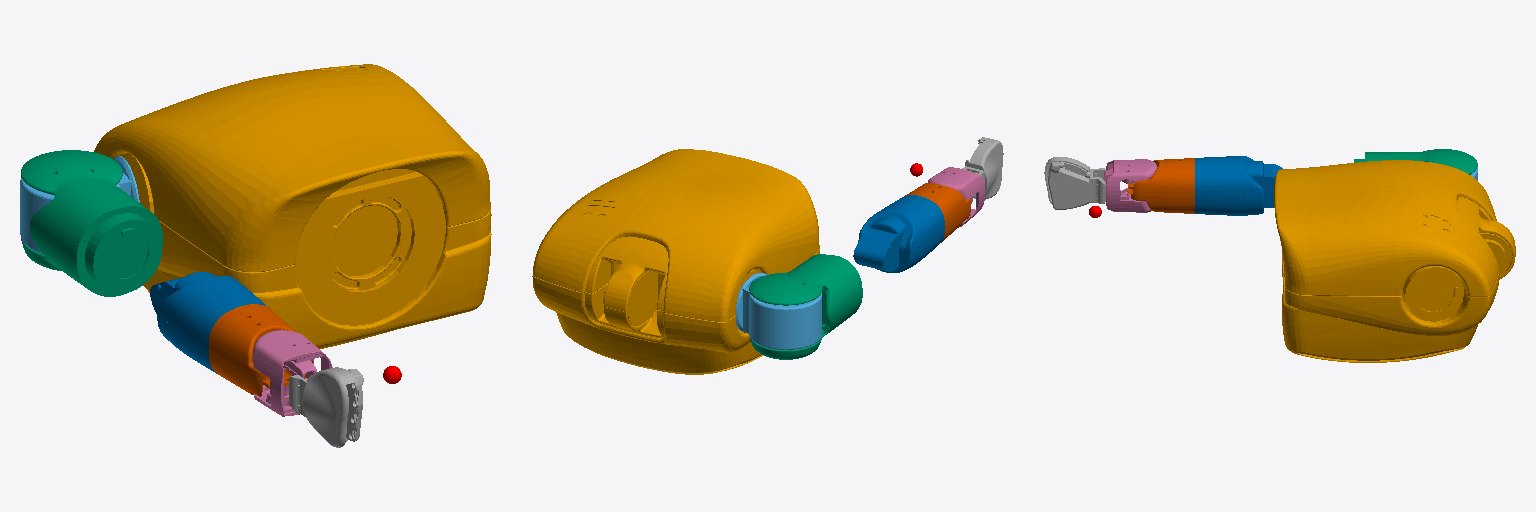
The robot description file, URDF, robot "friday":
<robot name="friday">
  <link name="waist_5">
    <inertial>
      <origin xyz="1.35732334303223E-05 0.135898614953202 -0.0188496042510568" rpy="0 0 0" />
      <mass value="12.474122580364" />
      <inertia ixx="0.109178941754524" ixy="-2.98129835492946E-05" ixz="-3.19150484404308E-06" iyy="0.107169406583023" iyz="-0.00214461668880564" izz="0.157827782829379" />
    </inertial>
    <visual>
      <origin xyz="0 0 0" rpy="0 0 0" />
      <geometry>
        <mesh filename="../meshes/friday/visual/body.obj" />
      </geometry>
    </visual>
    <visual>
      <origin xyz="0 -0.006322245945349 0" rpy="0 0 0" />
      <geometry>
        <mesh filename="../meshes/friday/visual/body_backpack.obj" />
      </geometry>
    </visual>
    <visual>
      <origin xyz="0 0.194843979673063 0" rpy="0 0 0" />
      <geometry>
        <mesh filename="../meshes/friday/visual/body_logo.obj" />
      </geometry>
    </visual>
    <collision>
      <origin xyz="0 0 0" rpy="0 0 0" />
      <geometry>
        <mesh filename="../meshes/friday/collision/compact_waist_5.obj" />
      </geometry>
    </collision>
  </link>
  <link name="right_arm_1">
    <inertial>
      <origin xyz="-0.0504783902306926 0.00890129178533927 -0.00679453644214538" rpy="0 0 0" />
      <mass value="0.651474546540579" />
      <inertia ixx="0.000731842888672747" ixy="3.59742635586591E-05" ixz="-3.81367597786363E-05" iyy="0.000929468035003683" iyz="6.73422556956025E-06" izz="0.000892686460138007" />
    </inertial>
    <visual>
      <origin xyz="0 0 0" rpy="0 0 0" />
      <geometry>
        <mesh filename="../meshes/friday/visual/right_arm_1.obj" />
      </geometry>
    </visual>
  </link>
  <joint name="right_arm_1" type="revolute">
    <origin xyz="-0.172029404471144 0.231163071735731 0" rpy="0 0 0" />
    <parent link="waist_5" />
    <child link="right_arm_1" />
    <axis xyz="-0.984807753012208 0.173648177666932 0" />
    <limit effort="87.0" lower="-0.4236" upper="2.5180" velocity="2.0" />
  </joint>
  <link name="right_arm_2">
    <inertial>
      <origin xyz="-0.00876610551709145 -0.0838925972250821 -0.000116637744680237" rpy="0 0 0" />
      <mass value="0.552803787561506" />
      <inertia ixx="0.000519188555883051" ixy="-8.90912453909685E-06" ixz="1.5759114172996E-06" iyy="0.000459209519989159" iyz="8.14107358177029E-06" izz="0.000544537600281593" />
    </inertial>
    <visual>
      <origin xyz="0 0 0" rpy="0 0 0" />
      <geometry>
        <mesh filename="../meshes/friday/visual/right_arm_2.obj" />
      </geometry>
    </visual>
    <collision>
      <origin xyz="0 0 0" rpy="0 0 0" />
      <geometry>
        <mesh filename="../meshes/friday/collision/compact_right_arm_2.obj" />
      </geometry>
    </collision>
  </link>
  <joint name="right_arm_2" type="revolute">
    <origin xyz="-0.0590971787351876 0.0104204270947499 0" rpy="0 0 0" />
    <parent link="right_arm_1" />
    <child link="right_arm_2" />
    <axis xyz="0 0 -1" />
    <limit effort="87.0" lower="0.0" upper="2.2562" velocity="2.0" />
  </joint>
  <link name="right_arm_3">
    <inertial>
      <origin xyz="-0.000133731452946151 -0.0679041256616604 -0.0020044978911568" rpy="0 0 0" />
      <mass value="0.726149922961283" />
      <inertia ixx="0.00135809777973873" ixy="-5.89216930081264E-06" ixz="1.34889818650324E-06" iyy="0.000527337663742348" iyz="-3.44595442111269E-05" izz="0.00136476731130073" />
    </inertial>
    <visual>
      <origin xyz="0 0 0" rpy="0 0 0" />
      <geometry>
        <mesh filename="../meshes/friday/visual/right_arm_3.obj" />
      </geometry>
    </visual>
    <collision>
      <origin xyz="0 -0.1 0.0" rpy="0 0 0" />
      <geometry>
				<box size="0.065 0.08 0.06" />
			</geometry>
    </collision>
  </link>
  <joint name="right_arm_3" type="revolute">
    <origin xyz="-0.0100000000000191 -0.136500000000018 0" rpy="0 0 0" />
    <parent link="right_arm_2" />
    <child link="right_arm_3" />
    <axis xyz="0 -1 0" />
    <limit effort="87.0" lower="-1.4708" upper="1.4708" velocity="2.0" />
  </joint>
  <link name="right_arm_4">
    <inertial>
      <origin xyz="-2.76445533131664E-14 -0.045952576906095 -0.0136740346459322" rpy="0 0 0" />
      <mass value="0.467228469256572" />
      <inertia ixx="0.000771988372959408" ixy="1.94600978543822E-16" ixz="4.31013975029117E-12" iyy="0.000278940153191588" iyz="4.81484159713596E-06" izz="0.000775309371405241" />
    </inertial>
    <visual>
      <origin xyz="0 0 0" rpy="0 0 0" />
      <geometry>
        <mesh filename="../meshes/friday/visual/right_arm_4.obj" />
      </geometry>
    </visual>
    <collision>
      <origin xyz="0 0 0" rpy="0 0 0" />
      <geometry>
        <mesh filename="../meshes/friday/collision/compact_right_arm_4.obj" />
      </geometry>
    </collision>
  </link>
  <joint name="right_arm_4" type="revolute">
    <origin xyz="0 -0.13 0.0134999999984212" rpy="0 0 0" />
    <parent link="right_arm_3" />
    <child link="right_arm_4" />
    <axis xyz="-1 0 0" />
    <limit effort="87.0" lower="0.0" upper="2.1689" velocity="2.0" />
  </joint>
  <link name="right_arm_5">
    <inertial>
      <origin xyz="5.77929130494981E-05 -2.10908799249993E-05 0.0303745916076382" rpy="0 0 0" />
      <mass value="0.141645120498882" />
      <inertia ixx="0.000150674876586753" ixy="-9.98797795815426E-06" ixz="-9.93466915122478E-08" iyy="0.00015148916187729" iyz="8.09491309586898E-08" izz="7.93773197761316E-05" />
    </inertial>
    <visual>
      <origin xyz="0 0 0" rpy="0 0 0" />
      <geometry>
        <mesh filename="../meshes/friday/visual/right_arm_5.obj" />
      </geometry>
    </visual>
    <collision>
      <origin xyz="0 0 0" rpy="0 0 0" />
      <geometry>
        <mesh filename="../meshes/friday/collision/compact_right_arm_5.obj" />
      </geometry>
    </collision>
  </link>
  <joint name="right_arm_5" type="revolute">
    <origin xyz="0 -0.10259999999999 -0.0134999999984212" rpy="1.5707963267949 0 0" />
    <parent link="right_arm_4" />
    <child link="right_arm_5" />
    <axis xyz="0 0 1" />
    <limit effort="87.0" lower="-1.4708" upper="1.4708" velocity="2.0" />
  </joint>
  <link name="right_arm_6">
    <inertial>
      <origin xyz="-8.14545597892236E-05 7.51009215400755E-05 0.0117608666205656" rpy="0 0 0" />
      <mass value="0.0314621801352106" />
      <inertia ixx="7.82929735327741E-06" ixy="1.10612506401232E-08" ixz="1.46345904053749E-08" iyy="8.71321796162152E-06" iyz="-7.15856215621043E-09" izz="7.73497403513718E-06" />
    </inertial>
    <visual>
      <origin xyz="0 0 0" rpy="0 0 0" />
      <geometry>
        <mesh filename="../meshes/friday/visual/right_arm_6.obj" />
      </geometry>
    </visual>
  </link>
  <joint name="right_arm_6" type="revolute">
    <origin xyz="0 0 0.111999999999983" rpy="0 0 0" />
    <parent link="right_arm_5" />
    <child link="right_arm_6" />
    <axis xyz="0 -1 0" />
    <limit effort="87.0" lower="-0.9472" upper="0.9472" velocity="2.0" />
  </joint>
  <link name="right_arm_7">
    <inertial>
      <origin xyz="0.00155644949116443 0.00311722917436926 0.0509010500036021" rpy="0 0 0" />
      <mass value="0.131756699270941" />
      <inertia ixx="7.77647231616779E-05" ixy="-8.79445374853935E-07" ixz="8.86916310181377E-07" iyy="3.25934806046904E-05" iyz="-6.93098580275756E-06" izz="5.59120417690713E-05" />
    </inertial>
    <visual>
      <origin xyz="0 0 0" rpy="0 0 0" />
      <geometry>
        <mesh filename="../meshes/friday/visual/right_arm_7.obj" />
      </geometry>
    </visual>
    <collision>
      <origin xyz="0 0 0" rpy="0 0 0" />
      <geometry>
        <mesh filename="../meshes/friday/collision/compact_right_arm_7.obj" />
      </geometry>
    </collision>
  </link>
  <joint name="right_arm_7" type="revolute">
    <origin xyz="0 0 0.0400000000000003" rpy="0 0 0" />
    <parent link="right_arm_6" />
    <child link="right_arm_7" />
    <axis xyz="-1 0 0" />
    <limit effort="87.0" lower="-0.6854" upper="0.6854" velocity="2.0" />
  </joint>
  <link name="ball_link">
      <visual>
      <material name="red">
          <color rgba="1 0 0 1"/>
      </material>

      <geometry>
          <sphere radius="0.01"/>
      </geometry>
      </visual>
  </link>
  <joint name="ball_joint" type="fixed">
      <origin rpy="0.0 0.0 0.0" xyz="0.09566 0 0.021" />
      <parent link="right_arm_7"/>
      <child link="ball_link"/>
  </joint>
</robot>

--- Render facts (derived) ---
3 views of the same robot in one strip: view 1: azimuth 30°, elevation 25°; view 2: azimuth 150°, elevation 25°; view 3: azimuth 270°, elevation 25° (orthographic).
Model friday with 9 links and 8 joints (7 revolute, 1 fixed), rooted at waist_5, posed all joints at 0.
Links seen in each view (by area): view 1: waist_5, right_arm_2, right_arm_4, right_arm_7, right_arm_5, right_arm_6, right_arm_1; view 2: waist_5, right_arm_2, right_arm_4, right_arm_1, right_arm_5, right_arm_7, right_arm_6; view 3: waist_5, right_arm_4, right_arm_5, right_arm_7, right_arm_6, right_arm_2.
Boxes of the visible links, bbox=[...] form: waist_5: bbox=[94, 64, 491, 348]; right_arm_2: bbox=[21, 150, 162, 296]; right_arm_4: bbox=[150, 272, 268, 373]; right_arm_7: bbox=[289, 367, 363, 447]; right_arm_5: bbox=[209, 304, 313, 396]; right_arm_6: bbox=[253, 330, 332, 416]; right_arm_1: bbox=[20, 156, 139, 253]; waist_5: bbox=[532, 149, 819, 374]; right_arm_2: bbox=[749, 254, 862, 359]; right_arm_4: bbox=[853, 195, 944, 272]; right_arm_1: bbox=[736, 273, 821, 349]; right_arm_5: bbox=[905, 183, 970, 242]; right_arm_7: bbox=[962, 137, 1003, 199]; right_arm_6: bbox=[928, 167, 984, 226]; waist_5: bbox=[1274, 160, 1515, 362]; right_arm_4: bbox=[1195, 156, 1282, 215]; right_arm_5: bbox=[1128, 158, 1194, 213]; right_arm_7: bbox=[1044, 157, 1105, 209]; right_arm_6: bbox=[1104, 159, 1157, 212]; right_arm_2: bbox=[1354, 149, 1477, 174].
Bounding box of the posed robot: 0.4648 × 0.7348 × 0.2624 m (x, y, z).
9 mesh visuals loaded from 10 distinct referenced files (9 OBJ); not drawn: 1 (reference not matched to a file when rendering).